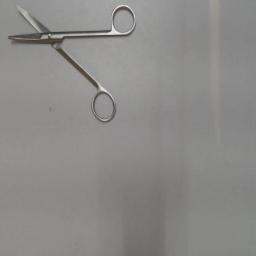Curved Mayo Scissors: (4, 2, 140, 126)
